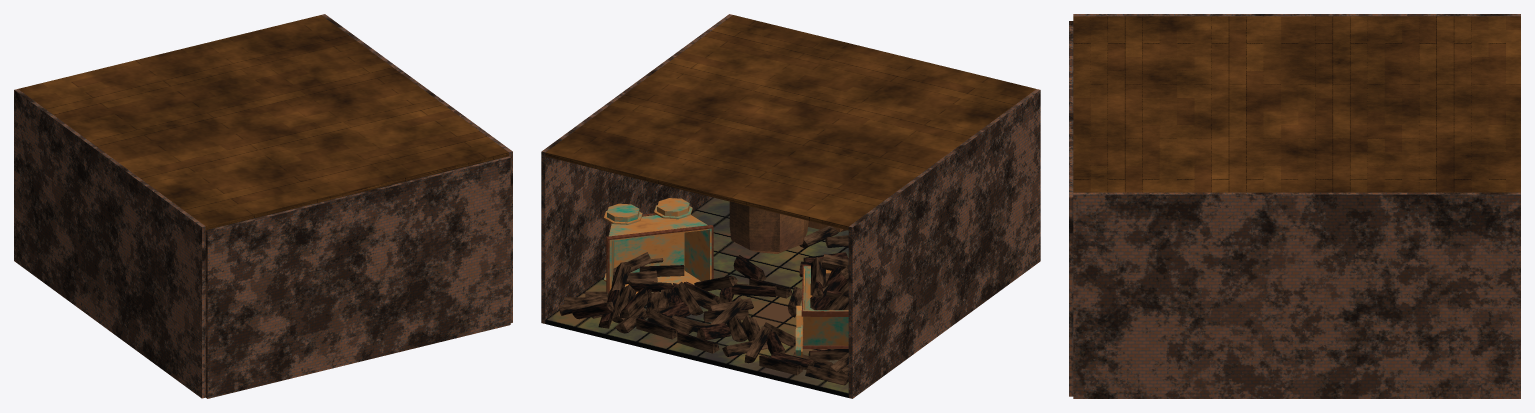
The model's file is GeneratorRoom.fbx.
3 renders of one model, left to right at view 1: azimuth 30°, elevation 25°; view 2: azimuth 150°, elevation 25°; view 3: azimuth 270°, elevation 25°, orthographic. The views are drawn at different scales.
Parts seen in each view (by area): view 1: DirtyCeiling, SideWall1.006, SideWall1.005, SideWall1.001; view 2: DirtyCeiling, SideWall1.005, SideWall1.001, DirtyGround, Minecart, Generator.001, Cube, CharredWood.022, CharredWood.055, CharredWood.018, CharredWood.047, CharredWood.014 (+6 smaller); view 3: SideWall1.001, DirtyCeiling, SideWall1.006, SideWall1.005.
Part boxes in pixels (x1=…): DirtyCeiling: x1=18, y1=15, x2=508, y2=230; SideWall1.006: x1=205, y1=156, x2=510, y2=398; SideWall1.005: x1=14, y1=89, x2=205, y2=398; SideWall1.001: x1=322, y1=14, x2=512, y2=322; DirtyCeiling: x1=545, y1=15, x2=1036, y2=230; SideWall1.005: x1=848, y1=89, x2=1040, y2=398; SideWall1.001: x1=541, y1=14, x2=732, y2=323; DirtyGround: x1=545, y1=197, x2=848, y2=397; Minecart: x1=604, y1=198, x2=713, y2=294; Generator.001: x1=729, y1=201, x2=846, y2=253; Cube: x1=795, y1=265, x2=848, y2=357; CharredWood.022: x1=731, y1=283, x2=776, y2=297; CharredWood.055: x1=759, y1=355, x2=802, y2=375; CharredWood.018: x1=647, y1=310, x2=692, y2=334; CharredWood.047: x1=805, y1=365, x2=848, y2=385; CharredWood.014: x1=636, y1=318, x2=677, y2=339; SideWall1.001: x1=1073, y1=192, x2=1520, y2=398; DirtyCeiling: x1=1073, y1=16, x2=1520, y2=192; SideWall1.006: x1=1069, y1=21, x2=1073, y2=396; SideWall1.005: x1=1073, y1=14, x2=1520, y2=16.
Size of the model in its own units: 517 by 272 by 546.
